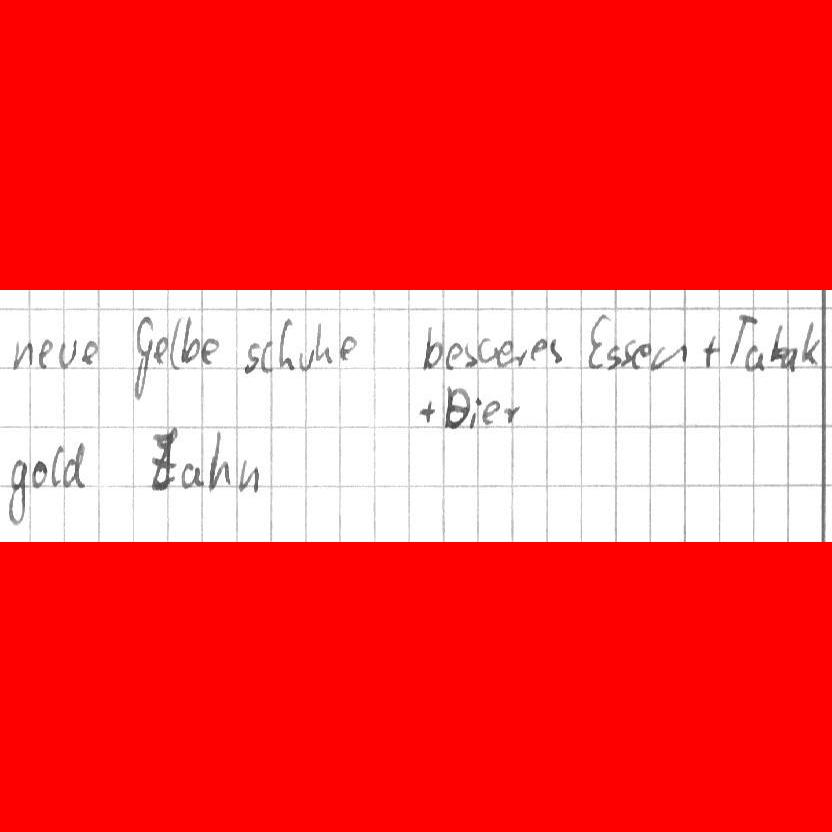Char: (146, 425, 179, 494), (132, 316, 152, 402), (585, 312, 612, 371), (5, 457, 28, 525), (206, 432, 230, 491), (62, 439, 86, 491), (421, 322, 445, 371), (730, 312, 752, 364), (769, 323, 793, 368), (444, 386, 468, 430), (799, 319, 821, 367), (652, 341, 686, 371), (180, 314, 200, 364), (236, 458, 260, 496), (313, 320, 333, 365), (279, 317, 294, 369), (168, 316, 182, 370), (11, 338, 33, 372), (700, 334, 719, 372), (180, 461, 202, 489), (244, 341, 262, 375), (474, 336, 495, 365), (745, 344, 765, 374), (57, 337, 75, 370), (79, 337, 98, 368), (445, 340, 464, 370), (496, 338, 514, 369), (31, 459, 49, 489), (337, 334, 356, 362), (199, 337, 218, 365), (38, 336, 53, 371), (530, 336, 548, 364), (418, 398, 438, 423), (501, 400, 520, 426), (50, 445, 62, 486), (483, 400, 501, 426), (620, 338, 636, 367), (152, 340, 169, 366), (470, 395, 483, 428), (606, 344, 622, 370), (262, 340, 275, 372), (512, 343, 530, 366), (297, 348, 314, 372), (548, 336, 563, 363), (633, 343, 650, 366), (464, 342, 477, 369)
